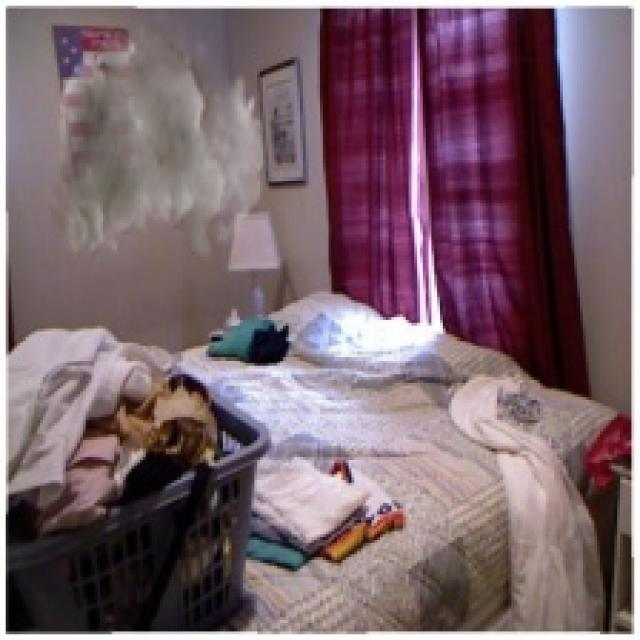smoke: (48, 6, 266, 266)
